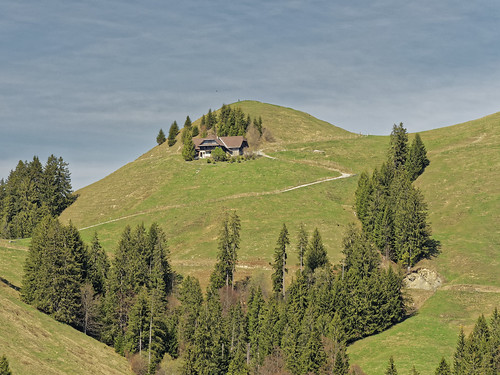building: (181, 126, 254, 156)
grass: (83, 138, 388, 255)
sky: (12, 1, 500, 146)
tree: (2, 152, 77, 236)
vegetation: (29, 133, 460, 375)
